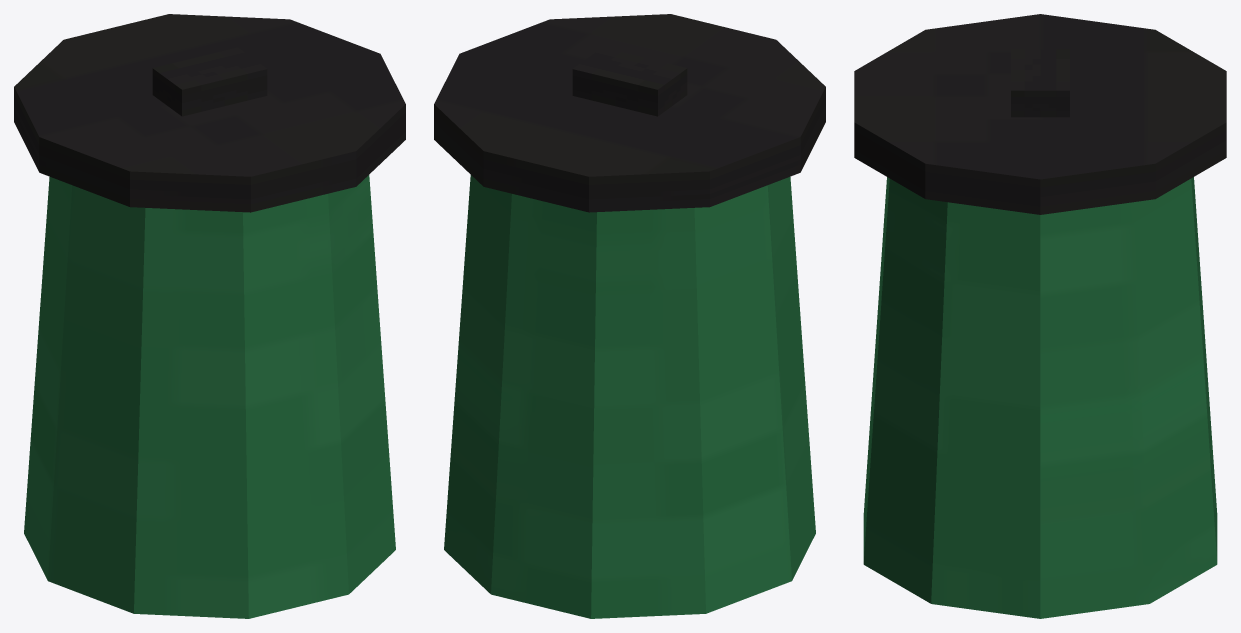
Rendered from bin-cream.glb.
3 renders of one model, left to right at view 1: azimuth 30°, elevation 25°; view 2: azimuth 150°, elevation 25°; view 3: azimuth 270°, elevation 25°, orthographic.
Visible parts, largest first — view 1: bin-cream; view 2: bin-cream; view 3: bin-cream.
Boxes of the visible parts, <box> form: bin-cream: <box>14,14,405,618</box>; bin-cream: <box>434,14,825,618</box>; bin-cream: <box>854,14,1226,618</box>.
Bounding box in the file's own units: 0.8 × 1.06 × 0.7608.
Materials: 1 (1 with a texture image).
